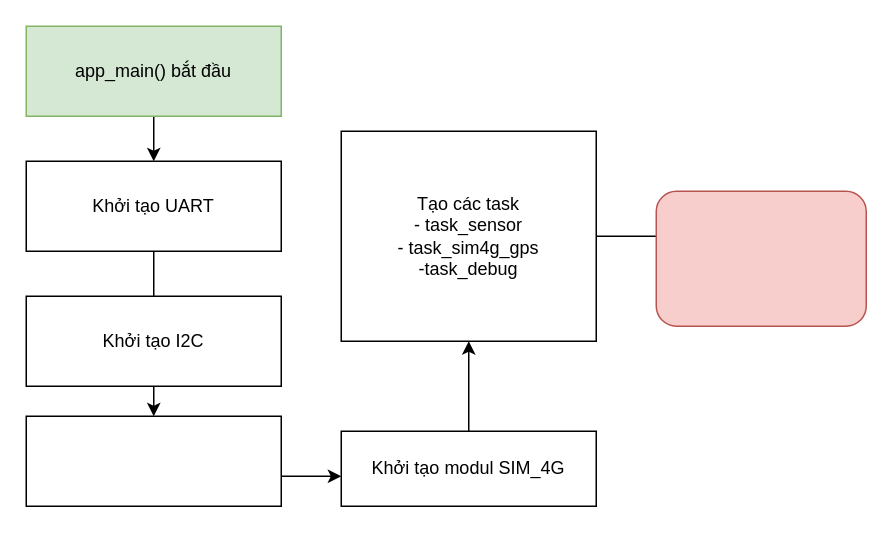
Some shapes in this 893 by 533 pixel diagram are drawn without their labels. Here are the shapes that lost their labels. From the top down, the centre of each, then its label:
At point (760, 258): "Kết thúc app_main chuyển sang FreeRTOS".
At point (153, 460): "Khởi tạo MPU6050".
